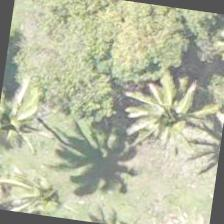Kelapa_Sawit: (128, 68, 223, 171), (0, 62, 65, 160), (0, 153, 86, 221)
